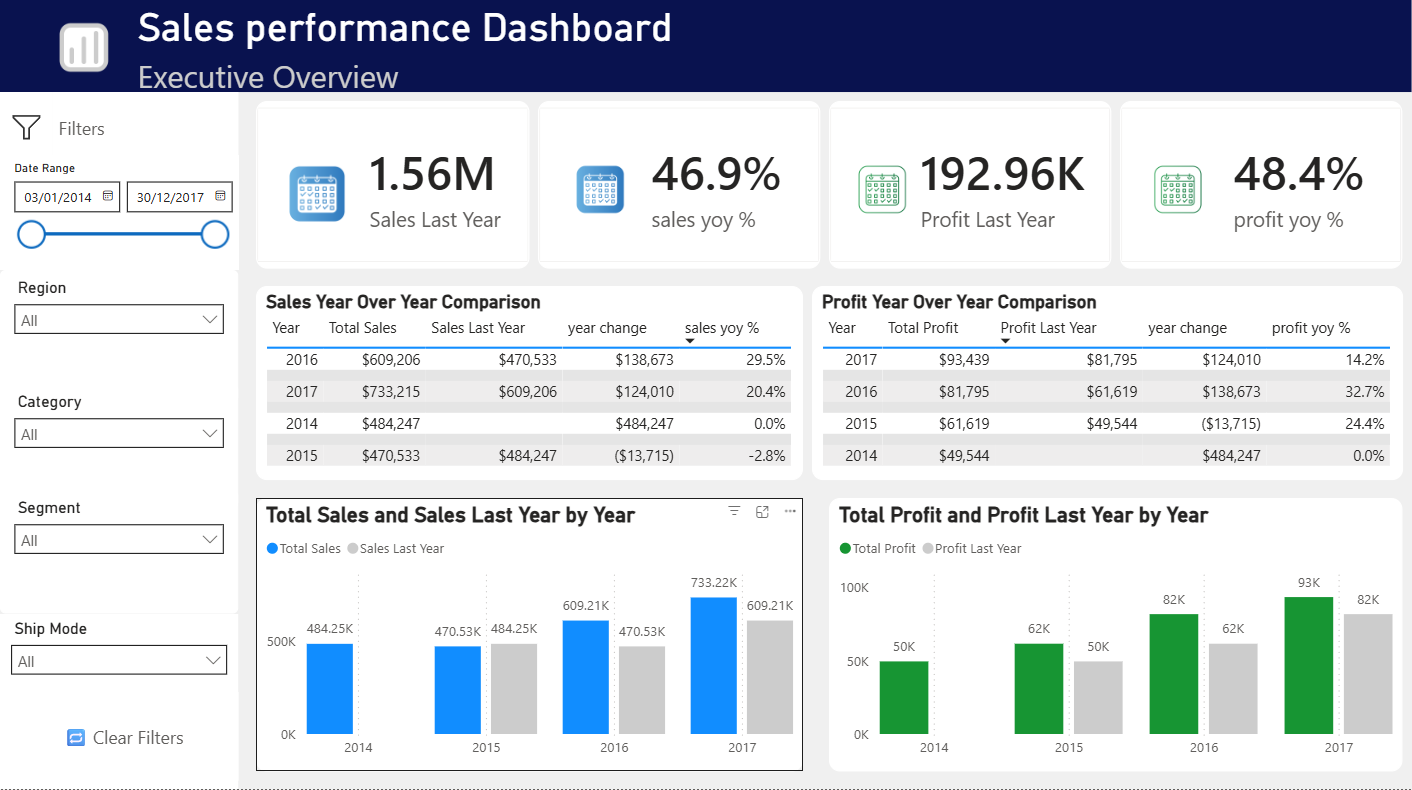

What the dashboard file says about the page in this screenshot:
{"tool":"powerbi","page":{"name":"Time intelligence","canvas":[1280,720],"ordinal":1},"visuals":[{"type":"slicer","fields":{"Values":["Sample - Superstore.Region"]},"box":[0,249.1,216,120],"z":0},{"type":"slicer","fields":{"Values":["Sample - Superstore.Category"]},"box":[0,353.1,216,112],"z":1000},{"type":"slicer","fields":{"Values":["Sample - Superstore.Segment"]},"box":[0,449.1,216,112],"z":2000},{"type":"shape","box":[0,0,1280,88],"z":3000},{"type":"slicer","fields":{"Values":["Sample - Superstore.Order Date"]},"box":[0,145.1,216,104],"z":4000},{"type":"actionButton","box":[48,88,168,64],"z":5000},{"type":"slicer","fields":{"Values":["Sample - Superstore.Ship Mode"]},"box":[0,561.1,216,160],"z":6000},{"type":"slicer","fields":{"Values":["Sample - Superstore.Order Date"]},"box":[0,88,48,64],"z":7000},{"type":"actionButton","box":[8,632,208,80],"z":8000},{"type":"textbox","title":"Sales performance Dashboard","box":[120,8,512,80],"z":9000},{"type":"image","box":[48,24,56,48],"z":10000},{"type":"cardVisual","fields":{"Data":["Sample - Superstore.profit yoy %"]},"box":[1016,96,256,152],"z":11000},{"type":"tableEx","title":"Sales Year Over Year Comparison","fields":{"Values":["date table.Year","Sample - Superstore.Total Sales","Sample - Superstore.Sales Last Year","Sample - Superstore.year change","Sample - Superstore.sales yoy %"]},"box":[232,264,496,176],"z":12000},{"type":"tableEx","title":"Profit Year Over Year Comparison","fields":{"Values":["date table.Year","Sample - Superstore.Total Profit","Sample - Superstore.Profit Last Year","Sample - Superstore.year change","Sample - Superstore.profit yoy %"]},"box":[736,264,536,176],"z":13000},{"type":"clusteredColumnChart","fields":{"Category":["date table.Year"],"Y":["Sample - Superstore.Total Sales","Sample - Superstore.Sales Last Year"]},"box":[232,456,496,248],"z":14000},{"type":"clusteredColumnChart","fields":{"Y":["Sample - Superstore.Total Profit","Sample - Superstore.Profit Last Year"],"Category":["date table.Year"]},"box":[752,456,520,248],"z":15000},{"type":"cardVisual","fields":{"Data":["Sample - Superstore.Sales Last Year"]},"box":[232,96,248,152],"z":16000},{"type":"image","box":[248,152,80,56],"z":17000},{"type":"image","box":[1040,152,56,48],"z":19000},{"type":"cardVisual","fields":{"Data":["Sample - Superstore.Profit Last Year"]},"box":[752,96,256,152],"z":20000},{"type":"image","box":[768,152,64,48],"z":21000},{"type":"cardVisual","fields":{"Data":["Sample - Superstore.sales yoy %"]},"box":[488,96,256,152],"z":22000},{"type":"image","box":[512,152,64,48],"z":24000}]}

Visuals, with their boxes in screenshot pixels (x1, y1, x2, y2), scaled from the page's 1280x720 canvas onto the 1412x790 screenshot:
slicer - Sample - Superstore.Region: locate(0, 273, 238, 405)
slicer - Sample - Superstore.Category: locate(0, 387, 238, 510)
slicer - Sample - Superstore.Segment: locate(0, 493, 238, 616)
shape: locate(0, 0, 1411, 97)
slicer - Sample - Superstore.Order Date: locate(0, 159, 238, 273)
actionButton: locate(53, 97, 238, 167)
slicer - Sample - Superstore.Ship Mode: locate(0, 616, 238, 789)
slicer - Sample - Superstore.Order Date: locate(0, 97, 53, 167)
actionButton: locate(9, 693, 238, 781)
"Sales performance Dashboard" textbox: locate(132, 9, 697, 97)
image: locate(53, 26, 115, 79)
cardVisual - Sample - Superstore.profit yoy %: locate(1121, 105, 1403, 272)
"Sales Year Over Year Comparison" tableEx: locate(256, 290, 803, 483)
"Profit Year Over Year Comparison" tableEx: locate(812, 290, 1403, 483)
clusteredColumnChart - date table.Year x Sample - Superstore.Total Sales: locate(256, 500, 803, 772)
clusteredColumnChart - Sample - Superstore.Total Profit x Sample - Superstore.Profit Last Year: locate(830, 500, 1403, 772)
cardVisual - Sample - Superstore.Sales Last Year: locate(256, 105, 530, 272)
image: locate(274, 167, 362, 228)
image: locate(1147, 167, 1209, 219)
cardVisual - Sample - Superstore.Profit Last Year: locate(830, 105, 1112, 272)
image: locate(847, 167, 918, 219)
cardVisual - Sample - Superstore.sales yoy %: locate(538, 105, 821, 272)
image: locate(565, 167, 635, 219)
